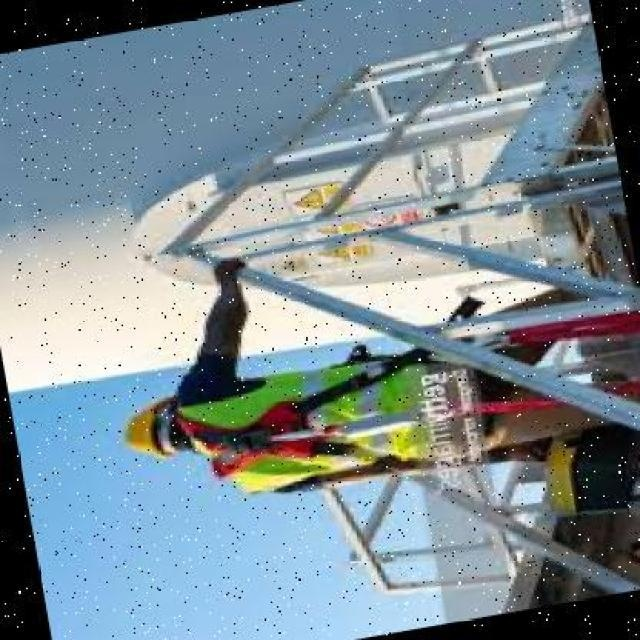Arnes_seguridad: (152, 299, 640, 508)
